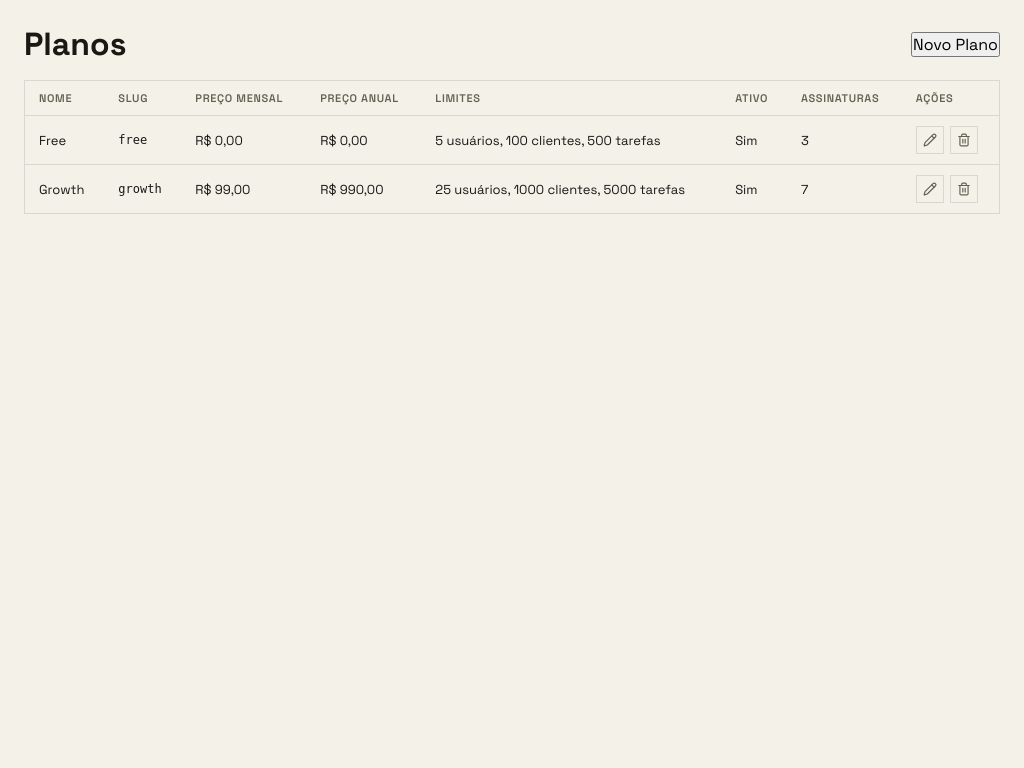
Test: PlansPage › abre modal de criação ao clicar em Novo Plano
The image size is (1024, 768).
Expected: the text "Free" is shown, [25,116,104,164]
Click the button "Novo Plano": (956, 44) [911,32,1000,56]
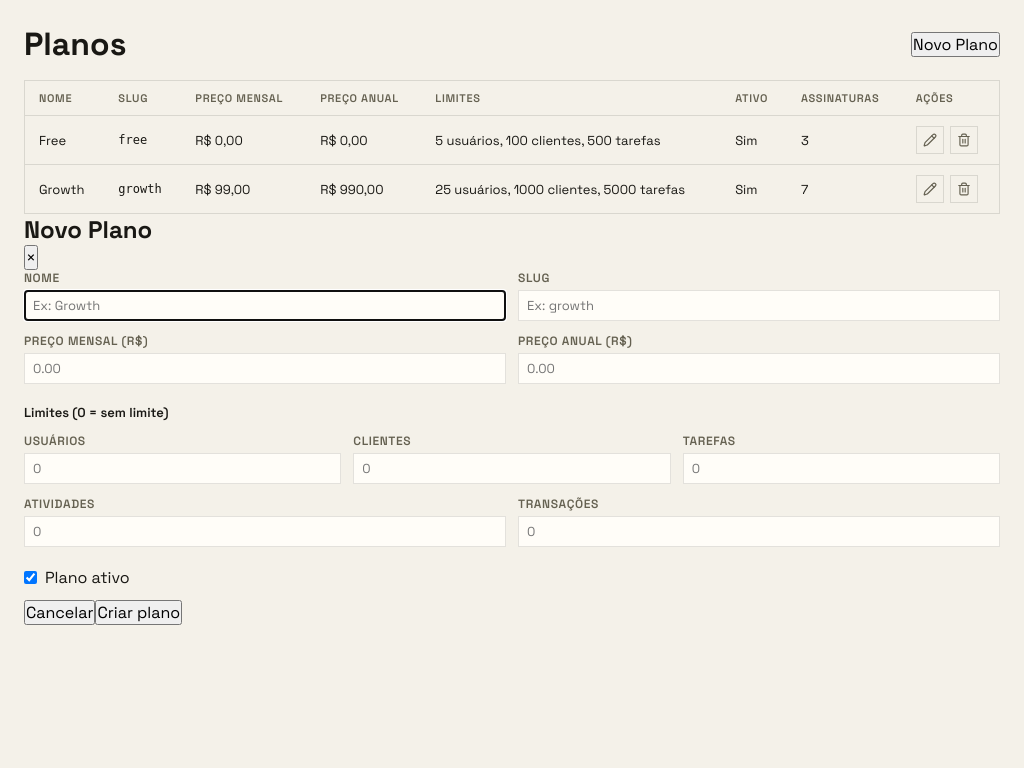
Result: the heading "Novo Plano" is shown at [24,214,152,245]
Result: the field labelled "Nome" is shown at [24,290,506,321]
Result: the field labelled "Slug" is shown at [518,290,1000,321]
